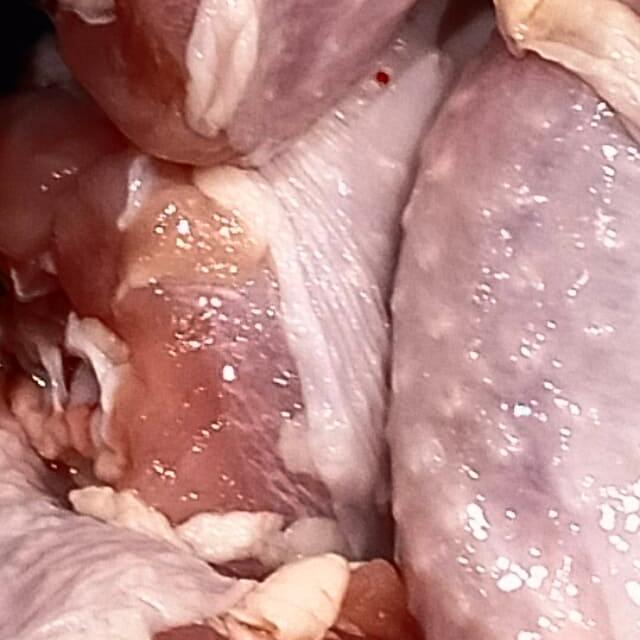chicken: (0, 133, 252, 640), (0, 0, 292, 321)
